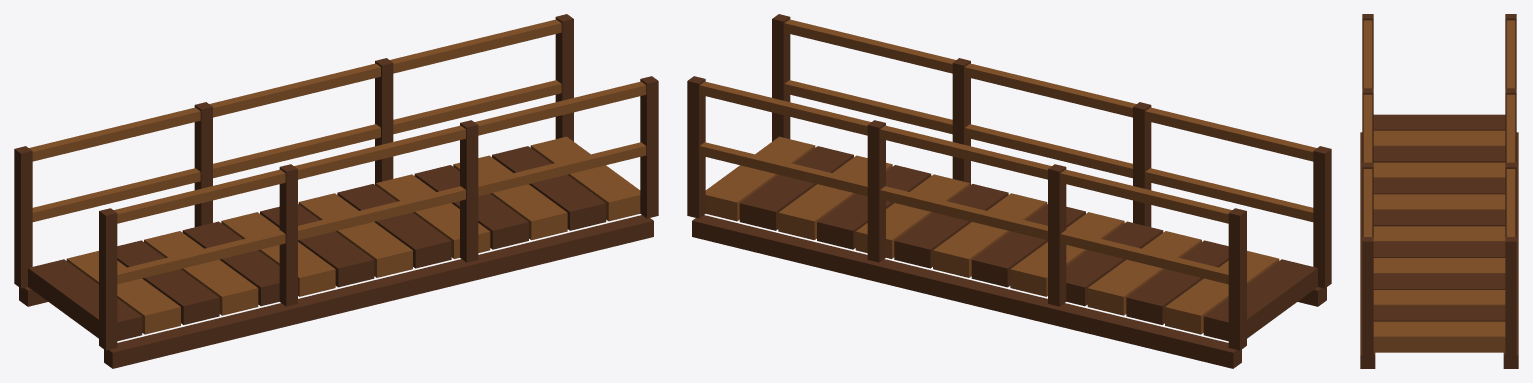
File: bridge.obj
The picture shows the model from 3 angles, left to right: view 1: azimuth 30°, elevation 25°; view 2: azimuth 150°, elevation 25°; view 3: azimuth 270°, elevation 25°; orthographic projection. The views are drawn at different scales.
Size of the model in its own units: 4.29 by 1.14 by 1.26.
Materials: 1 (1 with a texture image).
